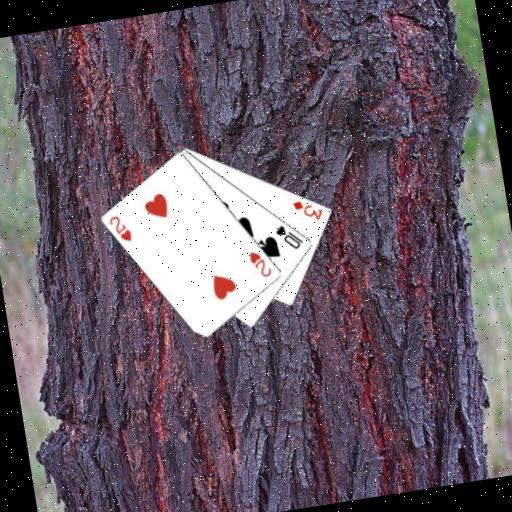10S: (271, 219, 305, 253)
2H: (245, 246, 274, 281), (106, 210, 135, 245)
3D: (289, 193, 325, 225)
